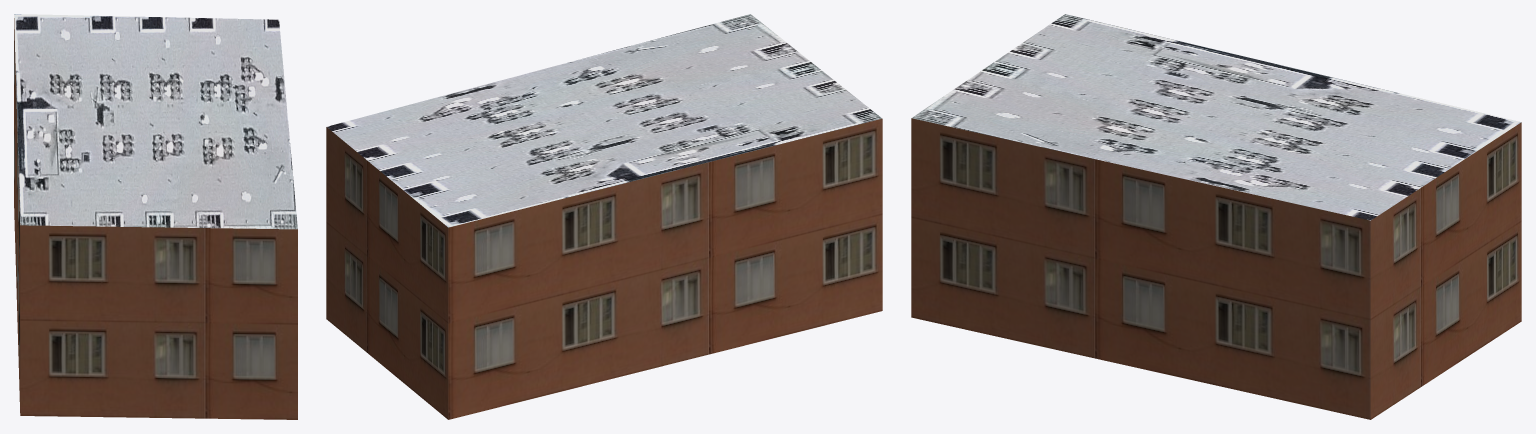
File: ResTex__3205.fbx
3 views of the same model, side by side, from view 1: azimuth 30°, elevation 25°; view 2: azimuth 150°, elevation 25°; view 3: azimuth 270°, elevation 25° (orthographic). The views are drawn at different scales.
Visible parts, largest first — view 1: CityEngineMaterial_4_m, CityEngineMaterial_20_m; view 2: CityEngineMaterial_20_m, CityEngineMaterial_4_m; view 3: CityEngineMaterial_20_m, CityEngineMaterial_4_m.
Part boxes in pixels (x1,y1,x2,y2): CityEngineMaterial_4_m: (14, 14, 297, 229); CityEngineMaterial_20_m: (14, 18, 297, 419); CityEngineMaterial_20_m: (326, 118, 882, 419); CityEngineMaterial_4_m: (326, 14, 881, 227); CityEngineMaterial_20_m: (911, 118, 1521, 419); CityEngineMaterial_4_m: (911, 14, 1521, 220).
Bounding box in the file's own units: 13.34 × 6 × 16.65.
Materials: 2 (2 with a texture image).
